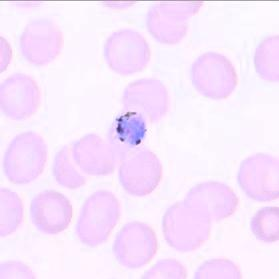Infected: (108, 107, 150, 154)
Uninfected: (76, 189, 120, 246), (163, 201, 211, 252), (2, 130, 46, 183), (112, 221, 158, 268), (103, 29, 151, 74), (186, 180, 238, 221), (116, 150, 162, 196), (192, 51, 236, 99), (19, 17, 62, 65), (237, 152, 279, 201), (123, 78, 170, 121), (71, 134, 119, 176), (29, 190, 73, 234), (0, 74, 39, 119), (147, 3, 187, 43), (252, 206, 279, 243)
